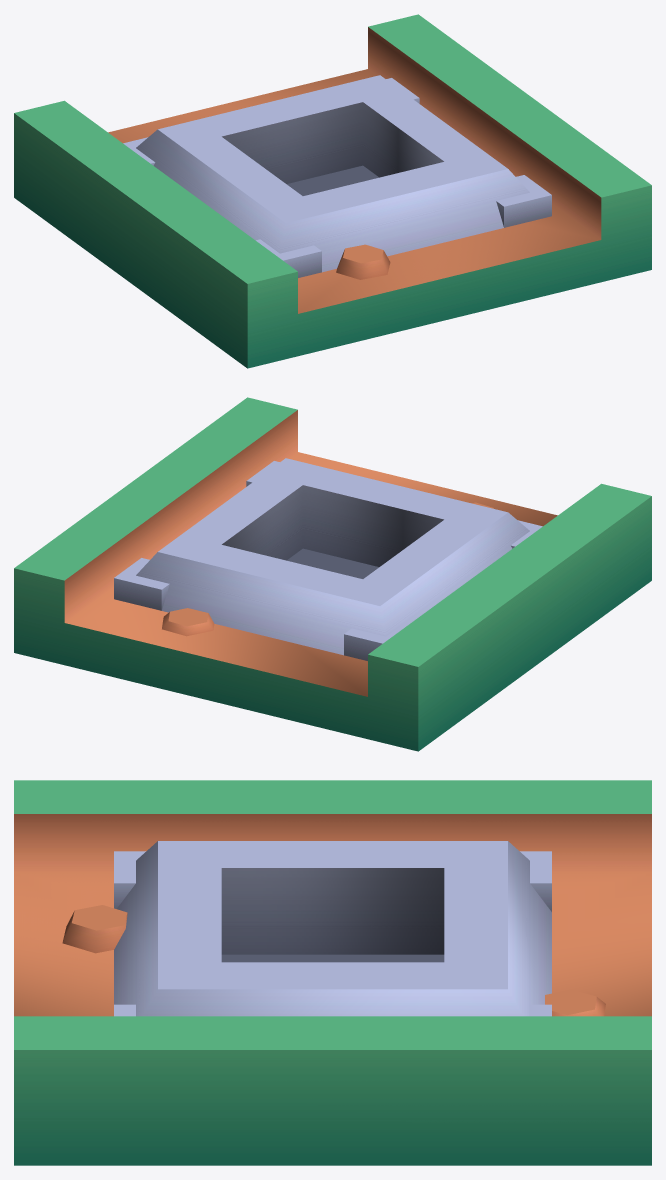
File: tile-spawn.glb
3 renders of one model, top to bottom at view 1: azimuth 30°, elevation 25°; view 2: azimuth 150°, elevation 25°; view 3: azimuth 270°, elevation 25°, orthographic. The views are drawn at different scales.
Parts seen in each view (by area): view 1: tile-spawn; view 2: tile-spawn; view 3: tile-spawn.
Boxes of the visible parts, x1,y1,x2,y2 form: tile-spawn: (14,14,651,368); tile-spawn: (14,397,651,751); tile-spawn: (14,780,651,1165).
Size of the model in its own units: 1 by 0.2 by 1.
Materials: 1 (1 with a texture image).
